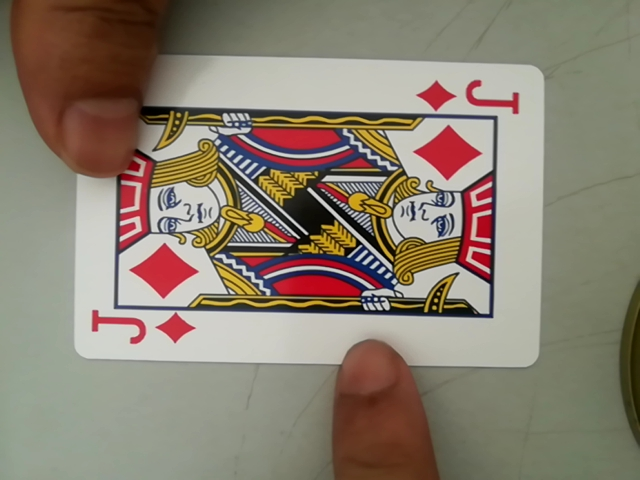fk j: (416, 74, 526, 118), (87, 307, 192, 353)
